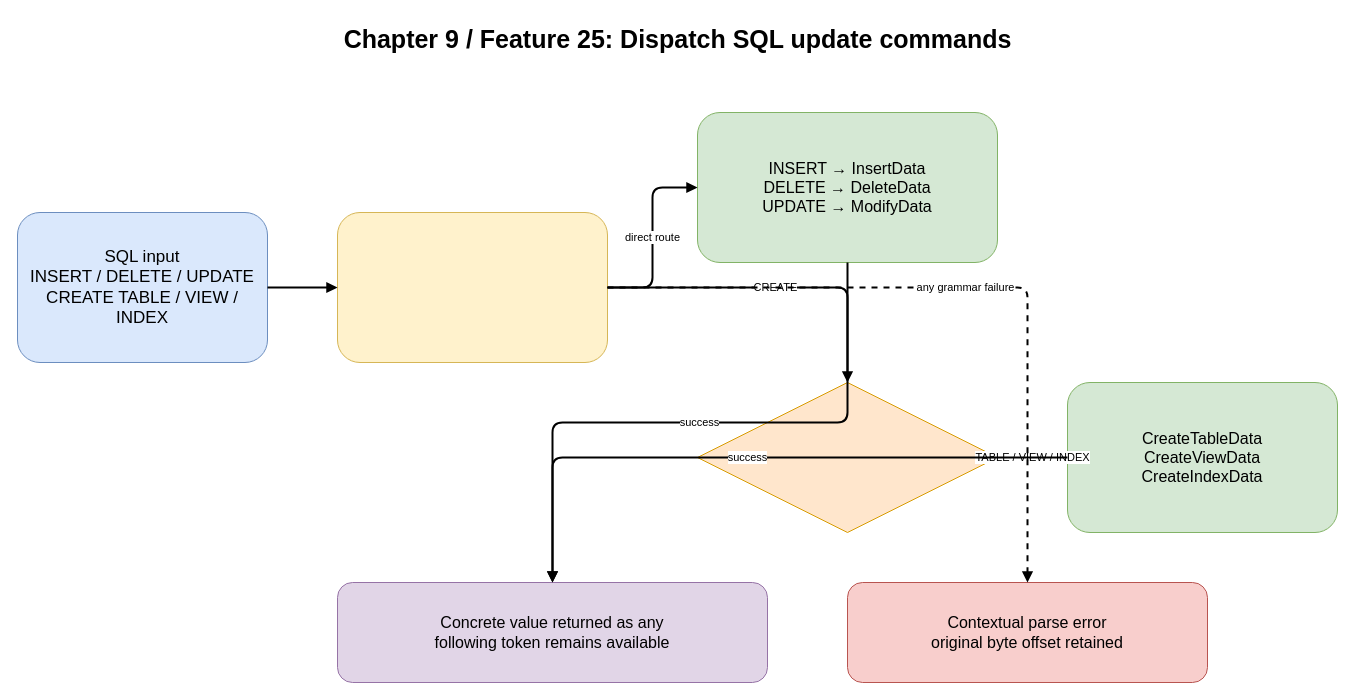
Some shapes in this 1355 by 700 pixel diagram are drawn without their labels. Each missing label, with the box of its shape:
CREATE branch TABLE / VIEW / otherwise INDEX: (696, 382, 998, 532)
ParseUpdateCommand match leading keyword: (336, 212, 608, 362)
